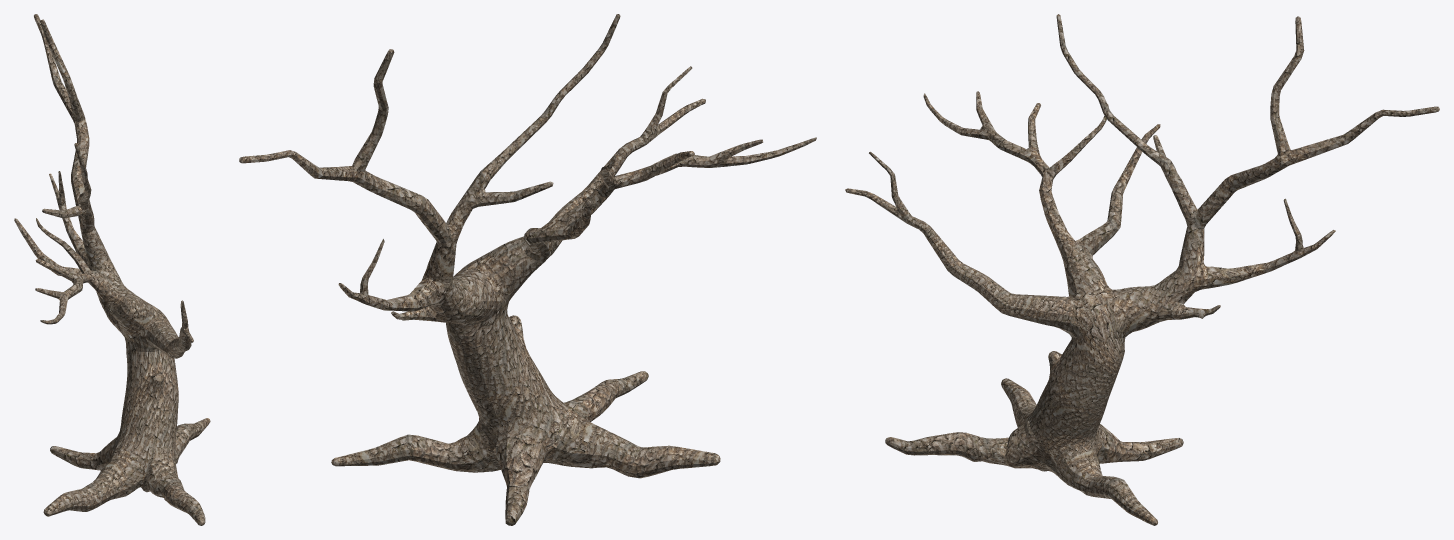
The model's file is TreeOne 1.fbx.
3 views of the same model, side by side, from view 1: azimuth 30°, elevation 25°; view 2: azimuth 150°, elevation 25°; view 3: azimuth 270°, elevation 25° (orthographic). The views are drawn at different scales.
Visible parts, largest first — view 1: Tree_1; view 2: Tree_1; view 3: Tree_1.
Boxes of the visible parts, x1,y1,x2,y2 form: Tree_1: (14,14,210,525); Tree_1: (239,14,816,525); Tree_1: (845,14,1439,525).
Size of the model in its own units: 671 by 940 by 1104.
